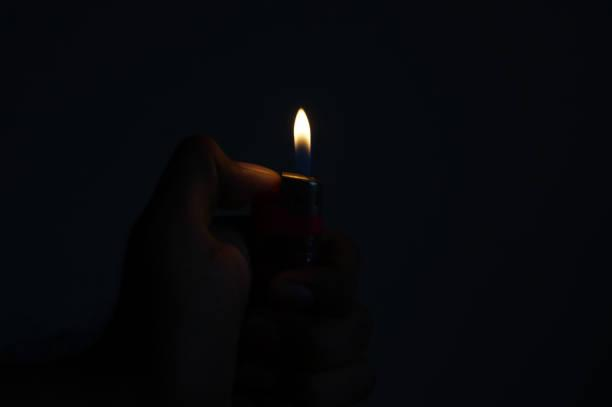Fire: (291, 101, 316, 161)
